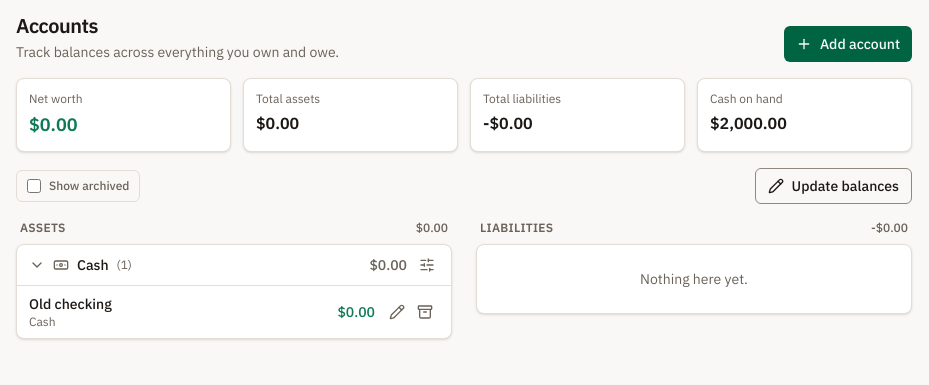
Test case: a refused archive shows its reason and releases the button
Click the button named "Archive Old checking" at [425, 312], box top-left (411, 298), bottom-right (439, 326)
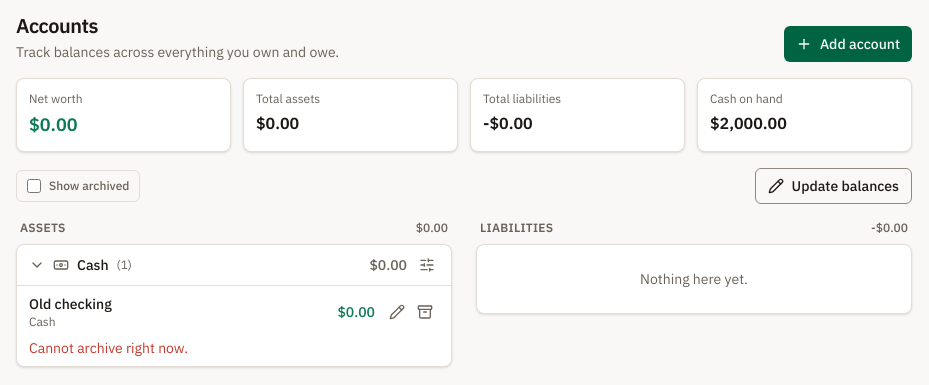
Check: the message reads "Cannot archive right now.", box top-left (29, 339), bottom-right (188, 357)
